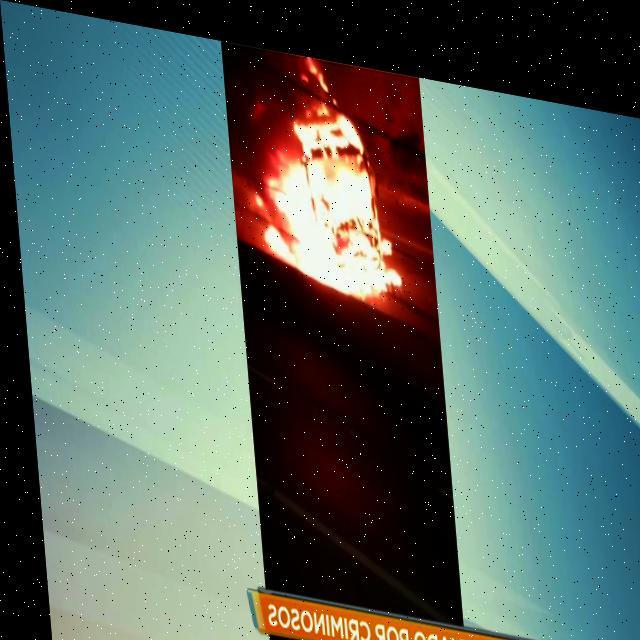Fire: (243, 59, 394, 294)
